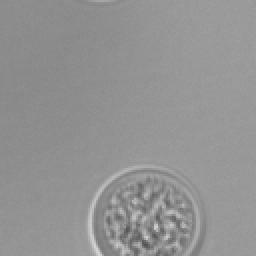picoshell: (92, 168, 202, 254)
